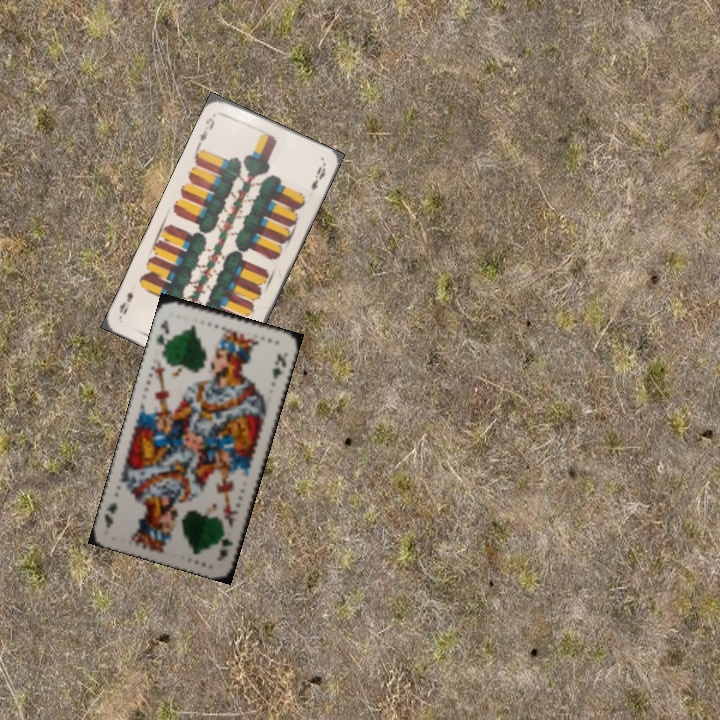E9: (194, 114, 217, 148)
GK: (213, 526, 235, 564), (152, 315, 172, 352)
